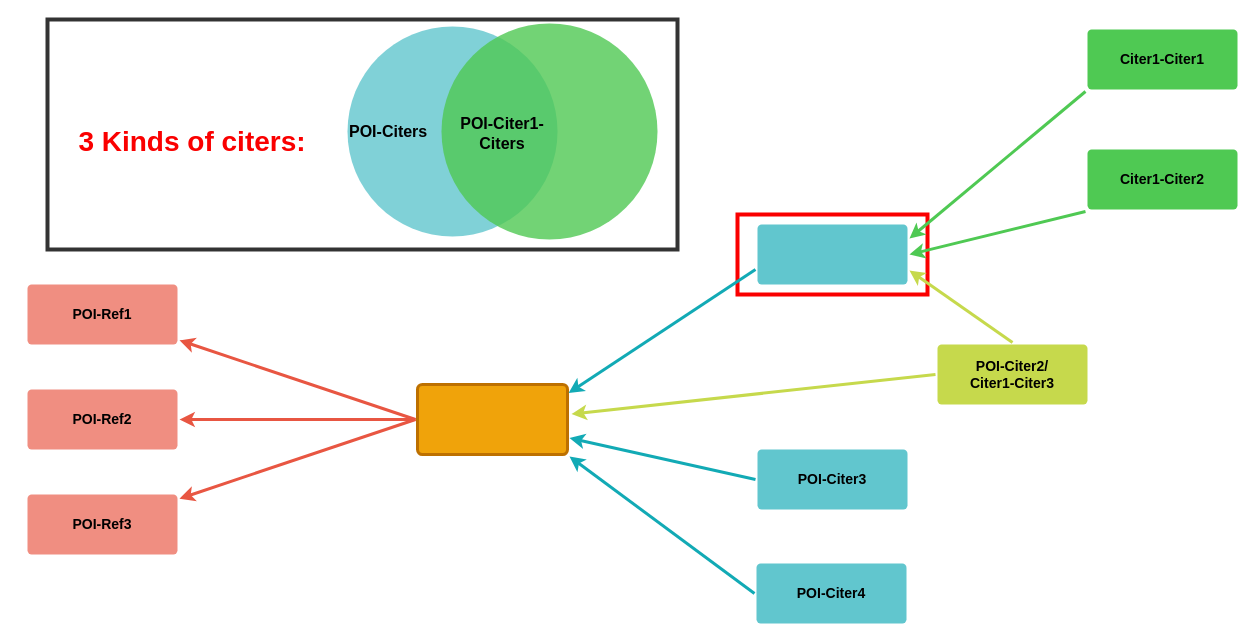
Some shapes in this 1254 by 640 pixel diagram are drawn without their labels. The box of each missing label's shape, as (x1, y1, x2, y2) in pixels:
Citer1-Citers: (441, 23, 657, 239)
Paper of interest (POI): (416, 382, 568, 456)
POI-Citer1: (757, 224, 907, 284)
